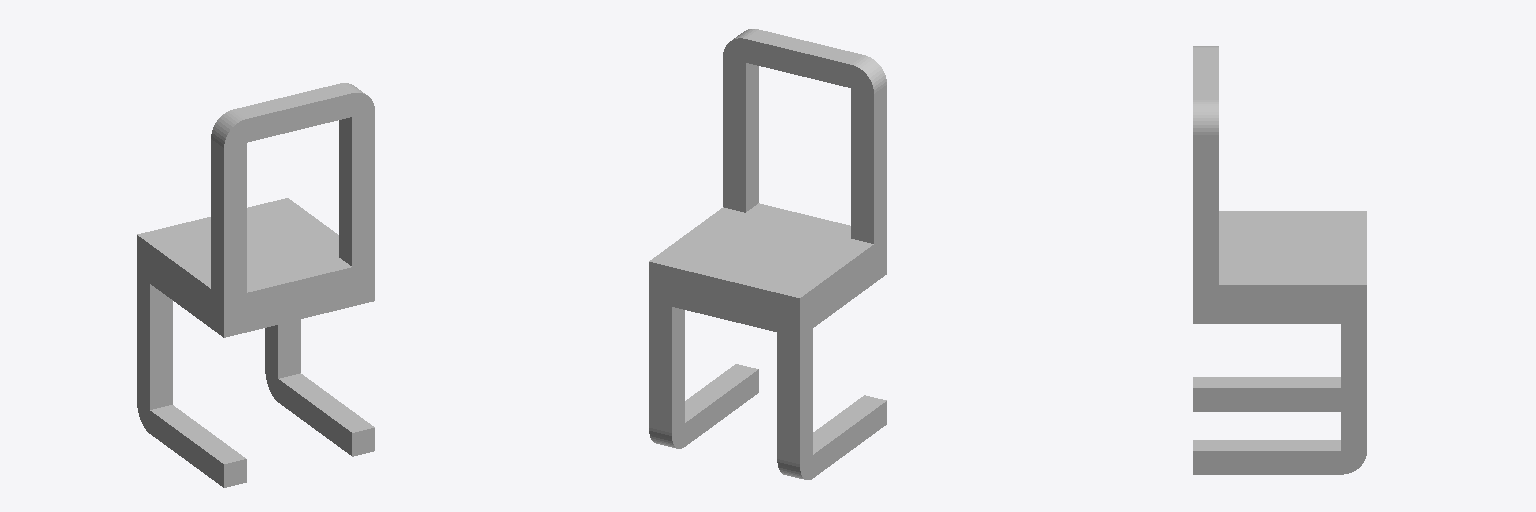
Rendered from blue  fancy chair.obj.
3 views of the same model, side by side, from view 1: azimuth 30°, elevation 25°; view 2: azimuth 150°, elevation 25°; view 3: azimuth 270°, elevation 25° (orthographic).
Visible parts, largest first — view 1: chairModernFrameCushion; view 2: chairModernFrameCushion; view 3: chairModernFrameCushion.
Boxes of the visible parts, x1,y1,x2,y2 form: chairModernFrameCushion: [137, 83, 374, 487]; chairModernFrameCushion: [649, 29, 886, 479]; chairModernFrameCushion: [1193, 46, 1366, 474].
Bounding box in the file's own units: 0.2 × 0.46 × 0.2.